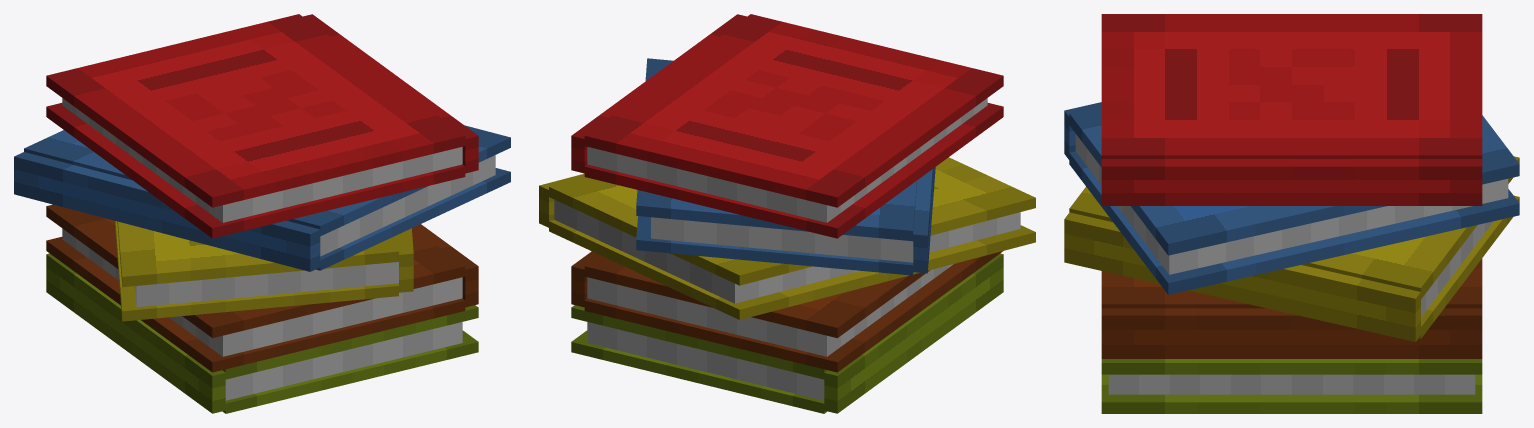
Rendered from books.glb.
3 renders of one model, left to right at view 1: azimuth 30°, elevation 25°; view 2: azimuth 150°, elevation 25°; view 3: azimuth 270°, elevation 25°, orthographic. The views are drawn at different scales.
Parts seen in each view (by area): view 1: a97b5972-1885-5dfc-1cd4-23fef182796c_3, aad3fd4e-fad0-5f00-a43b-05c0d2db1c12_4, 98393dd3-45bb-6625-7c41-31f83be280f9_1, c6a802c8-fc27-4c70-d7da-d765d4f95609_12, a7977a6c-cfcc-69fb-a5aa-bcc6b2773263_11, 13b3a0e8-063e-8dde-11ce-2f9e087bc196_18, 121edf21-6fa9-25fc-c6bd-96b1828d26e6_19, d42e0b9d-06c6-1f54-2575-b4977d464260_17, c062d236-9276-9fc5-5c4b-7f556caee893_2, 9303851b-aaac-106d-0ee0-b31c8177bbda_10, 5b12029c-da89-2c89-cbd8-f8571af06cd5_15, ab05ee45-c5ef-e0cb-41d3-7a9f9baed5b3_7 (+8 smaller); view 2: a97b5972-1885-5dfc-1cd4-23fef182796c_3, a7977a6c-cfcc-69fb-a5aa-bcc6b2773263_11, c6a802c8-fc27-4c70-d7da-d765d4f95609_12, 98393dd3-45bb-6625-7c41-31f83be280f9_1, 60aa928b-8cf8-e269-2b2d-ef328b42e818_9, 121edf21-6fa9-25fc-c6bd-96b1828d26e6_19, 9303851b-aaac-106d-0ee0-b31c8177bbda_10, d42e0b9d-06c6-1f54-2575-b4977d464260_17, 13b3a0e8-063e-8dde-11ce-2f9e087bc196_18, c062d236-9276-9fc5-5c4b-7f556caee893_2, 0998e9b5-ea0e-b2e1-f5ab-27cb0c6867f7_6, 5b12029c-da89-2c89-cbd8-f8571af06cd5_15 (+8 smaller); view 3: a97b5972-1885-5dfc-1cd4-23fef182796c_3, 01b6ab78-22b9-0d7b-1933-5f1de455909f_0, f123fd4e-85ce-8e2b-407d-d309e4c0e66a_16, b53aafe1-0edb-cdca-2f83-a37c1f2aae0b_8, ab05ee45-c5ef-e0cb-41d3-7a9f9baed5b3_7, 63222293-9a0a-47c7-262a-eec22627751e_5, 63e5bf49-cf2e-3ee5-dfdc-a9b152449532_14, 5b12029c-da89-2c89-cbd8-f8571af06cd5_15, 0998e9b5-ea0e-b2e1-f5ab-27cb0c6867f7_6, 55fe01e9-6ae7-f583-75c4-5840f4fc2684_13, a7977a6c-cfcc-69fb-a5aa-bcc6b2773263_11, 13b3a0e8-063e-8dde-11ce-2f9e087bc196_18 (+3 smaller).
Boxes of the visible parts, left/top/right/bottom form: a97b5972-1885-5dfc-1cd4-23fef182796c_3: left=46, top=14, right=465, bottom=207; aad3fd4e-fad0-5f00-a43b-05c0d2db1c12_4: left=14, top=152, right=320, bottom=271; 98393dd3-45bb-6625-7c41-31f83be280f9_1: left=46, top=103, right=465, bottom=238; c6a802c8-fc27-4c70-d7da-d765d4f95609_12: left=46, top=253, right=225, bottom=413; a7977a6c-cfcc-69fb-a5aa-bcc6b2773263_11: left=117, top=221, right=398, bottom=287; 13b3a0e8-063e-8dde-11ce-2f9e087bc196_18: left=46, top=204, right=465, bottom=338; 121edf21-6fa9-25fc-c6bd-96b1828d26e6_19: left=46, top=237, right=465, bottom=372; d42e0b9d-06c6-1f54-2575-b4977d464260_17: left=62, top=228, right=462, bottom=356; c062d236-9276-9fc5-5c4b-7f556caee893_2: left=62, top=98, right=462, bottom=222; 9303851b-aaac-106d-0ee0-b31c8177bbda_10: left=135, top=262, right=398, bottom=307; 5b12029c-da89-2c89-cbd8-f8571af06cd5_15: left=225, top=322, right=462, bottom=400; ab05ee45-c5ef-e0cb-41d3-7a9f9baed5b3_7: left=24, top=125, right=510, bottom=236; a97b5972-1885-5dfc-1cd4-23fef182796c_3: left=584, top=14, right=1003, bottom=207; a7977a6c-cfcc-69fb-a5aa-bcc6b2773263_11: left=549, top=157, right=1035, bottom=285; c6a802c8-fc27-4c70-d7da-d765d4f95609_12: left=824, top=253, right=1003, bottom=413; 98393dd3-45bb-6625-7c41-31f83be280f9_1: left=584, top=103, right=1003, bottom=238; 60aa928b-8cf8-e269-2b2d-ef328b42e818_9: left=549, top=219, right=1035, bottom=319; 121edf21-6fa9-25fc-c6bd-96b1828d26e6_19: left=584, top=251, right=1002, bottom=372; 9303851b-aaac-106d-0ee0-b31c8177bbda_10: left=554, top=199, right=1020, bottom=303; d42e0b9d-06c6-1f54-2575-b4977d464260_17: left=587, top=264, right=953, bottom=356; 13b3a0e8-063e-8dde-11ce-2f9e087bc196_18: left=584, top=255, right=930, bottom=338; c062d236-9276-9fc5-5c4b-7f556caee893_2: left=587, top=98, right=987, bottom=222; 0998e9b5-ea0e-b2e1-f5ab-27cb0c6867f7_6: left=651, top=217, right=913, bottom=262; 5b12029c-da89-2c89-cbd8-f8571af06cd5_15: left=587, top=322, right=824, bottom=400; a97b5972-1885-5dfc-1cd4-23fef182796c_3: left=1101, top=14, right=1482, bottom=158; 01b6ab78-22b9-0d7b-1933-5f1de455909f_0: left=1101, top=159, right=1482, bottom=205; f123fd4e-85ce-8e2b-407d-d309e4c0e66a_16: left=1101, top=308, right=1482, bottom=358; b53aafe1-0edb-cdca-2f83-a37c1f2aae0b_8: left=1064, top=212, right=1420, bottom=341; ab05ee45-c5ef-e0cb-41d3-7a9f9baed5b3_7: left=1069, top=106, right=1519, bottom=255; 63222293-9a0a-47c7-262a-eec22627751e_5: left=1069, top=151, right=1519, bottom=294; 63e5bf49-cf2e-3ee5-dfdc-a9b152449532_14: left=1101, top=374, right=1482, bottom=413; 5b12029c-da89-2c89-cbd8-f8571af06cd5_15: left=1108, top=374, right=1475, bottom=394; 0998e9b5-ea0e-b2e1-f5ab-27cb0c6867f7_6: left=1075, top=134, right=1508, bottom=274; 55fe01e9-6ae7-f583-75c4-5840f4fc2684_13: left=1101, top=359, right=1482, bottom=374; a7977a6c-cfcc-69fb-a5aa-bcc6b2773263_11: left=1069, top=156, right=1519, bottom=299; 13b3a0e8-063e-8dde-11ce-2f9e087bc196_18: left=1101, top=258, right=1482, bottom=308.
Size of the model in its own units: 2.17 by 1.17 by 1.93.
Materials: 1 (1 with a texture image).
